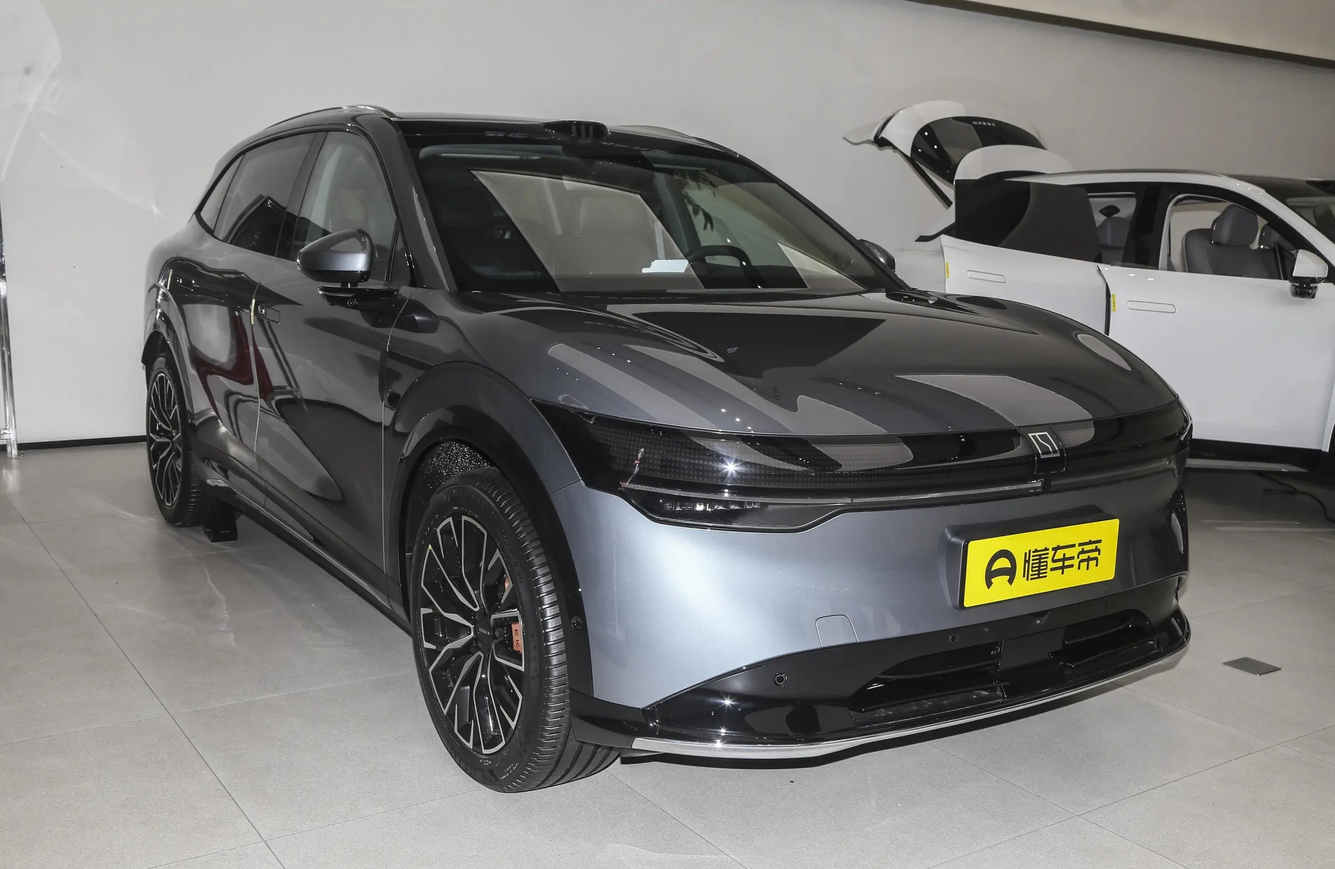ZEEKR: (1028, 432, 1060, 458)
